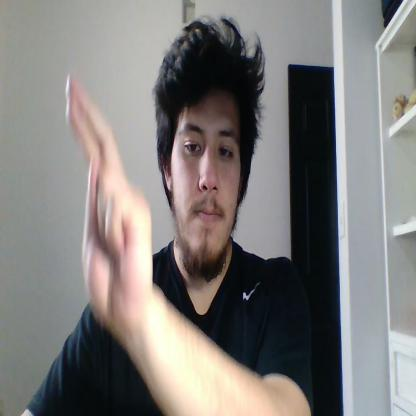R: (66, 72, 154, 323)
